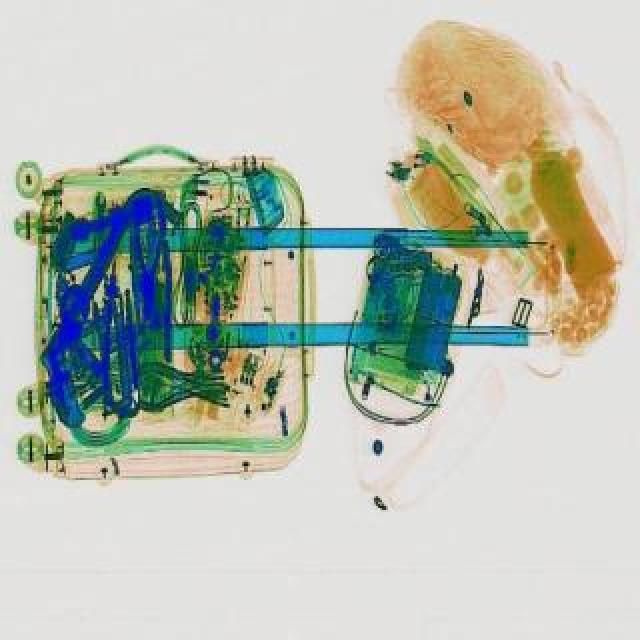wrench: (130, 214, 170, 326)
